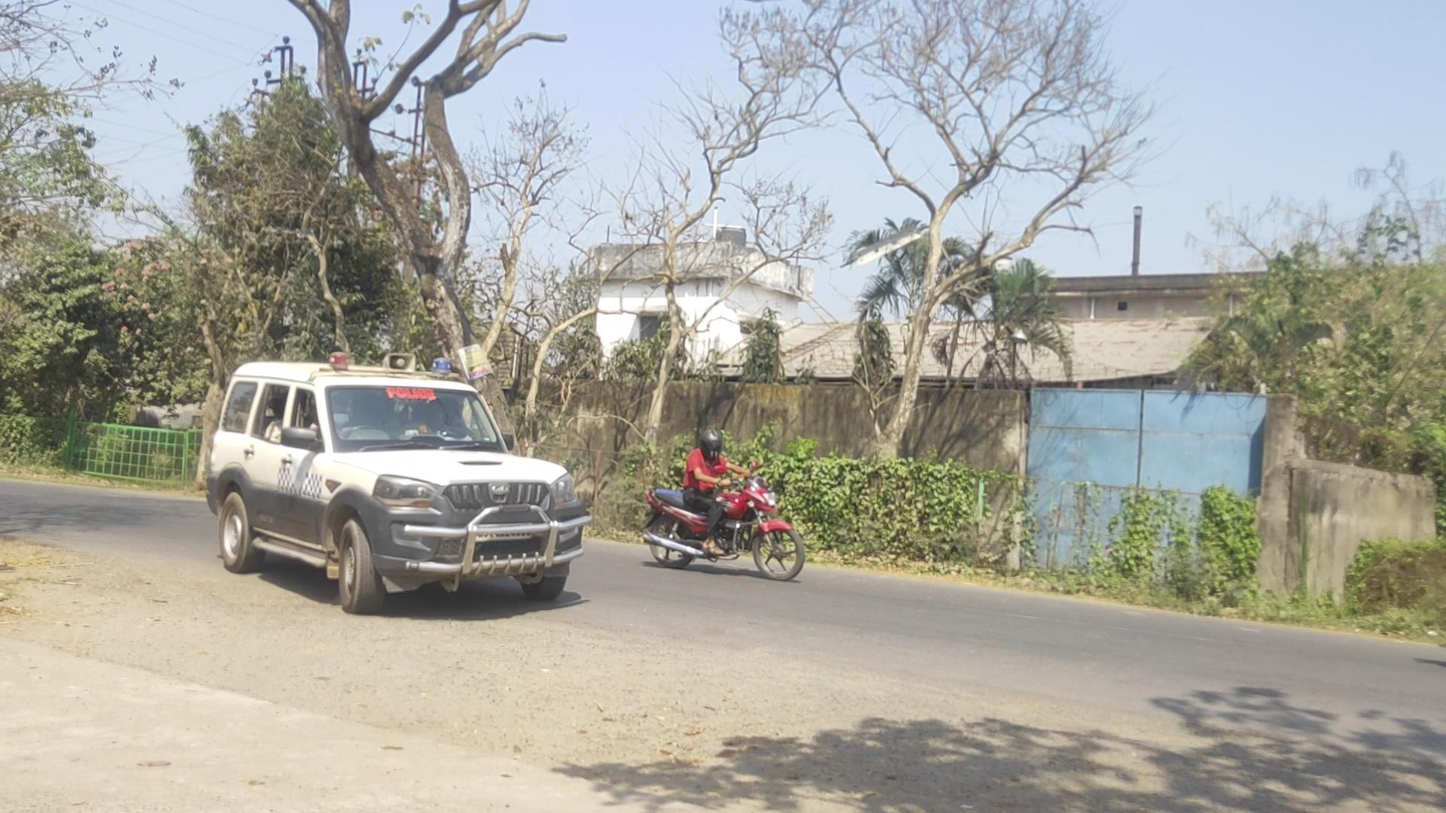bike: (642, 428, 805, 582)
car: (206, 352, 593, 615)
